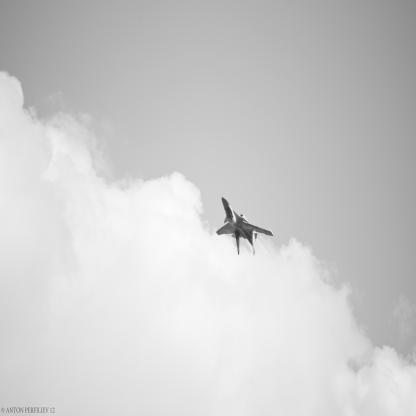Su34: (215, 196, 275, 257)
